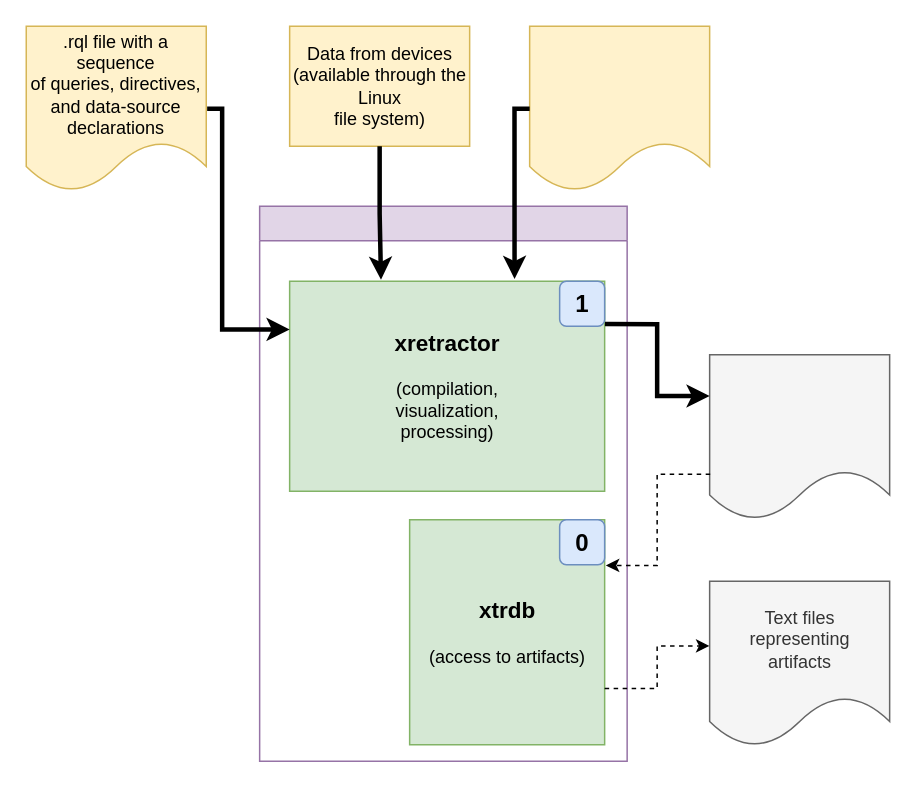
Image size: 917x788. Some labels were removed from this diagram. Each missing label, with the box of its shape:
Binary data files (artifacts): (708, 353, 890, 520)
Binary or text data files: (528, 25, 710, 191)
RetractorDB: (258, 205, 627, 761)
